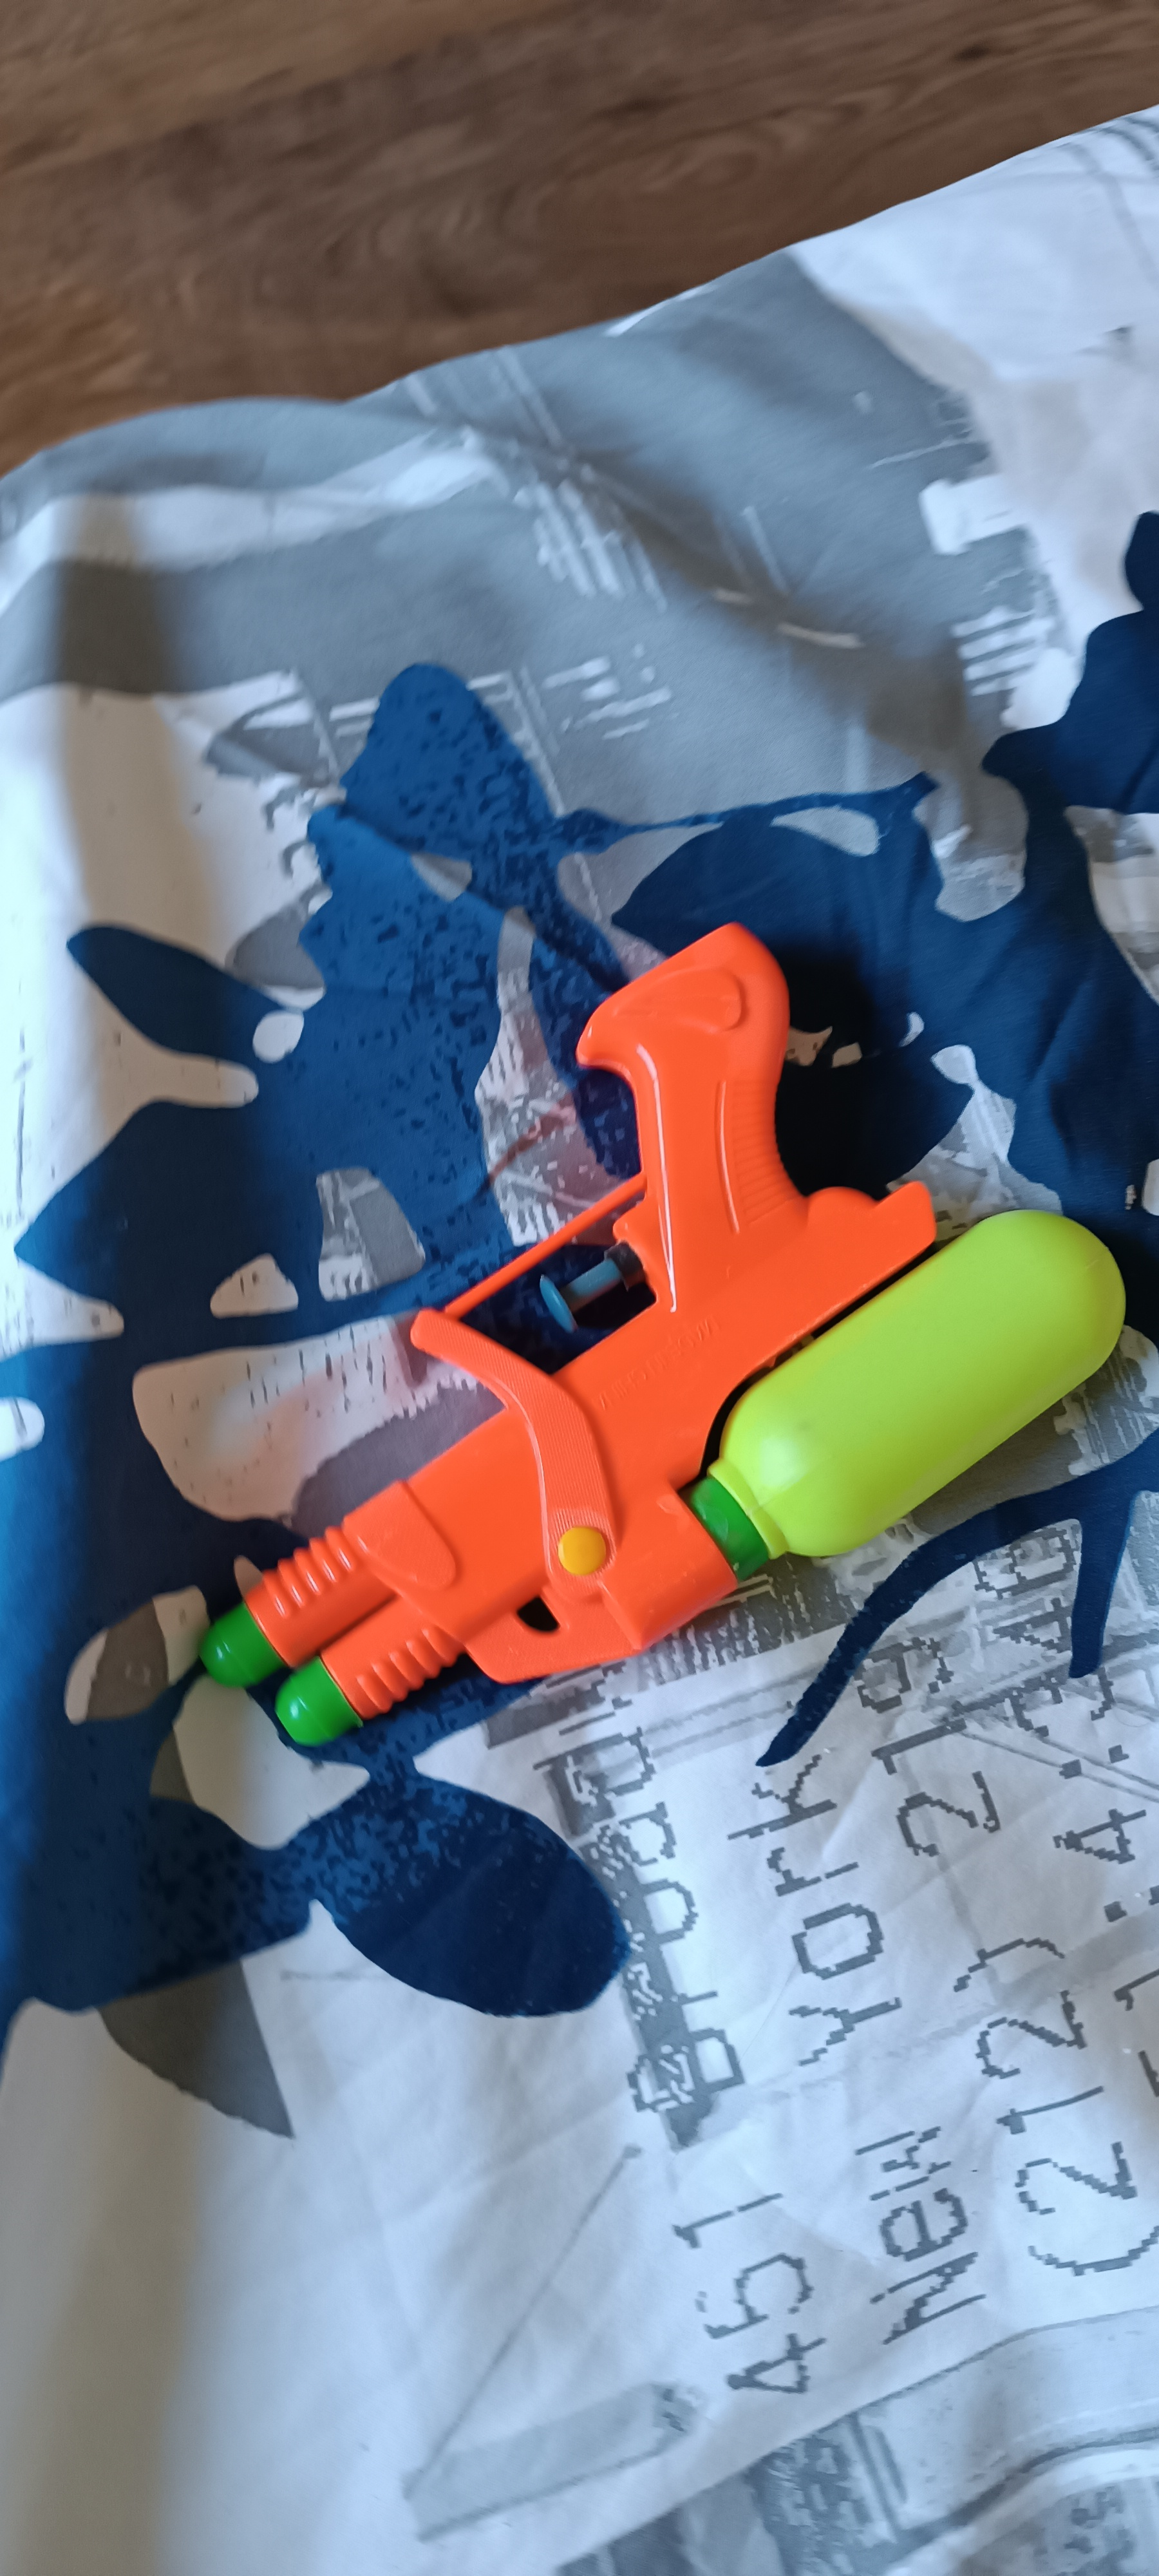Water Gun: (200, 922, 1126, 1750)
